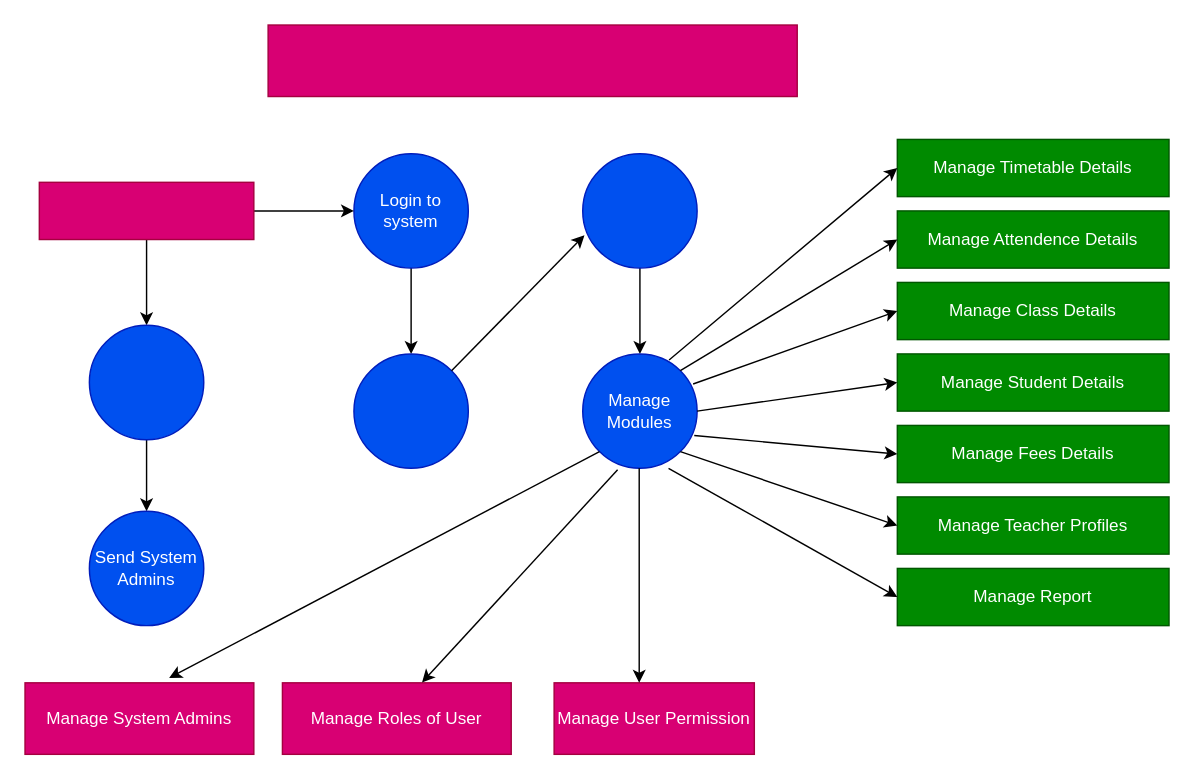
Some shapes in this 1194 by 779 pixel diagram are drawn without their labels. The shapes that lost their labels are listed below. From the top down, each one's centre as x and y in pixels, then its label:
At point 532,60: "Student Information System".
At point 146,210: "Admin".
At point 639,210: "Check Roles of Access".
At point 146,382: "Forgot Password".
At point 410,410: "Check Credentials".
